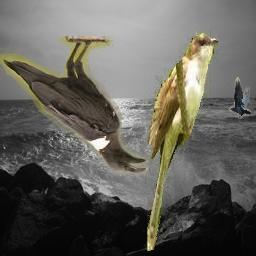Crow: (0, 36, 149, 174), (229, 77, 252, 119)
Cuckoo: (148, 31, 223, 251)
